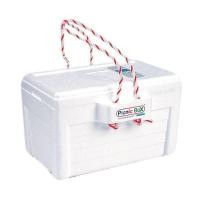Foam Box: (18, 17, 186, 183)
